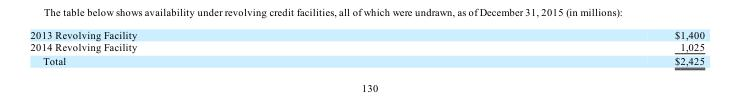table: (29, 28, 703, 66)
table column: (29, 28, 405, 66), (405, 28, 703, 66)
table row: (29, 40, 703, 53), (29, 53, 703, 66), (29, 28, 703, 40)
